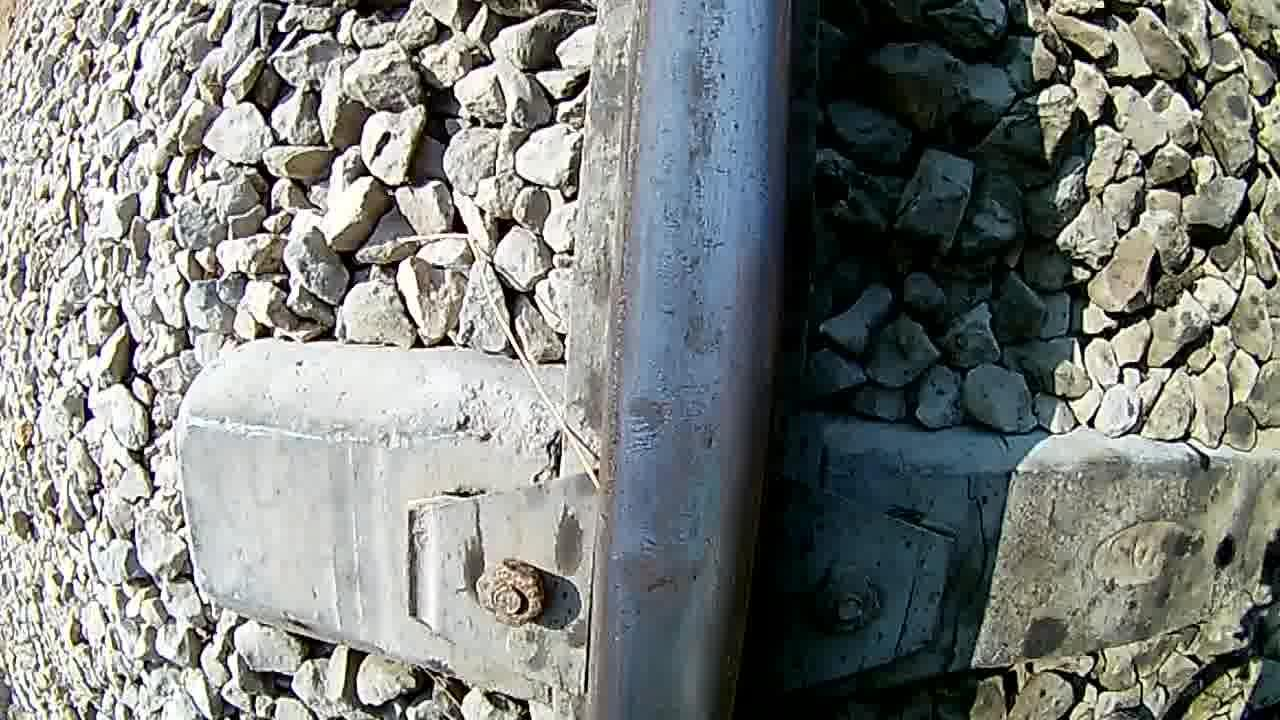crack: (598, 0, 788, 720)
